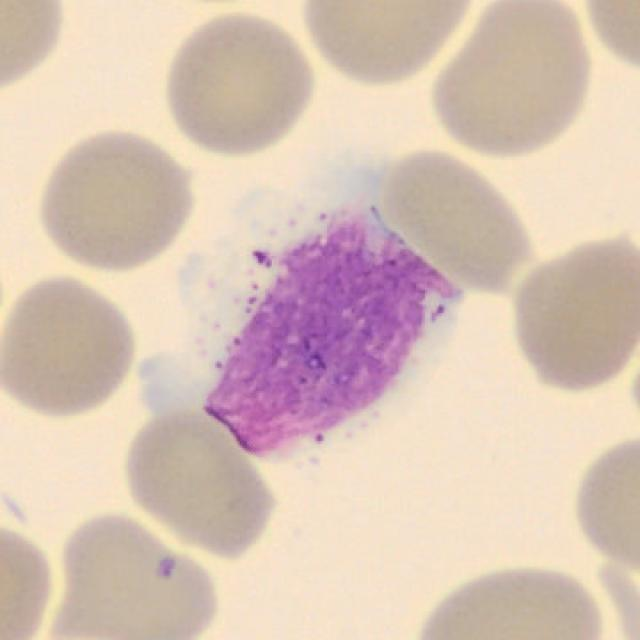Linfocito atipico: (139, 148, 464, 460)
